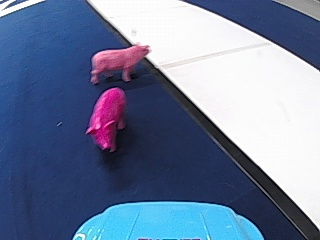pig: (85, 84, 125, 152), (87, 41, 149, 82)
